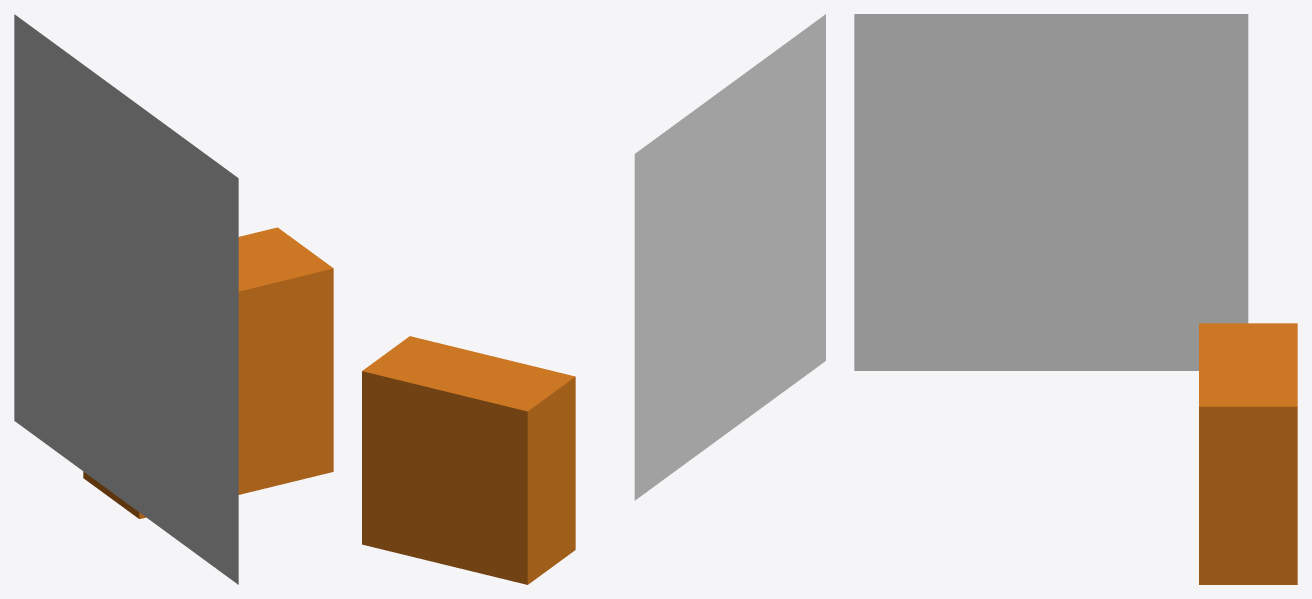
3 renders of one model, left to right at view 1: azimuth 30°, elevation 25°; view 2: azimuth 150°, elevation 25°; view 3: azimuth 270°, elevation 25°, orthographic. The views are drawn at different scales.
Parts seen in each view (by area): view 1: quad-node, box-node; view 2: quad-node, box-node; view 3: quad-node, box-node.
Boxes of the visible parts, bbox=[...] form: quad-node: bbox=[14, 14, 238, 584]; box-node: bbox=[83, 227, 333, 518]; quad-node: bbox=[634, 14, 825, 500]; box-node: bbox=[362, 336, 575, 584]; quad-node: bbox=[854, 14, 1248, 370]; box-node: bbox=[1199, 323, 1297, 584].
Bounding box in the file's own units: 1.5 × 2.5 × 2.25.
